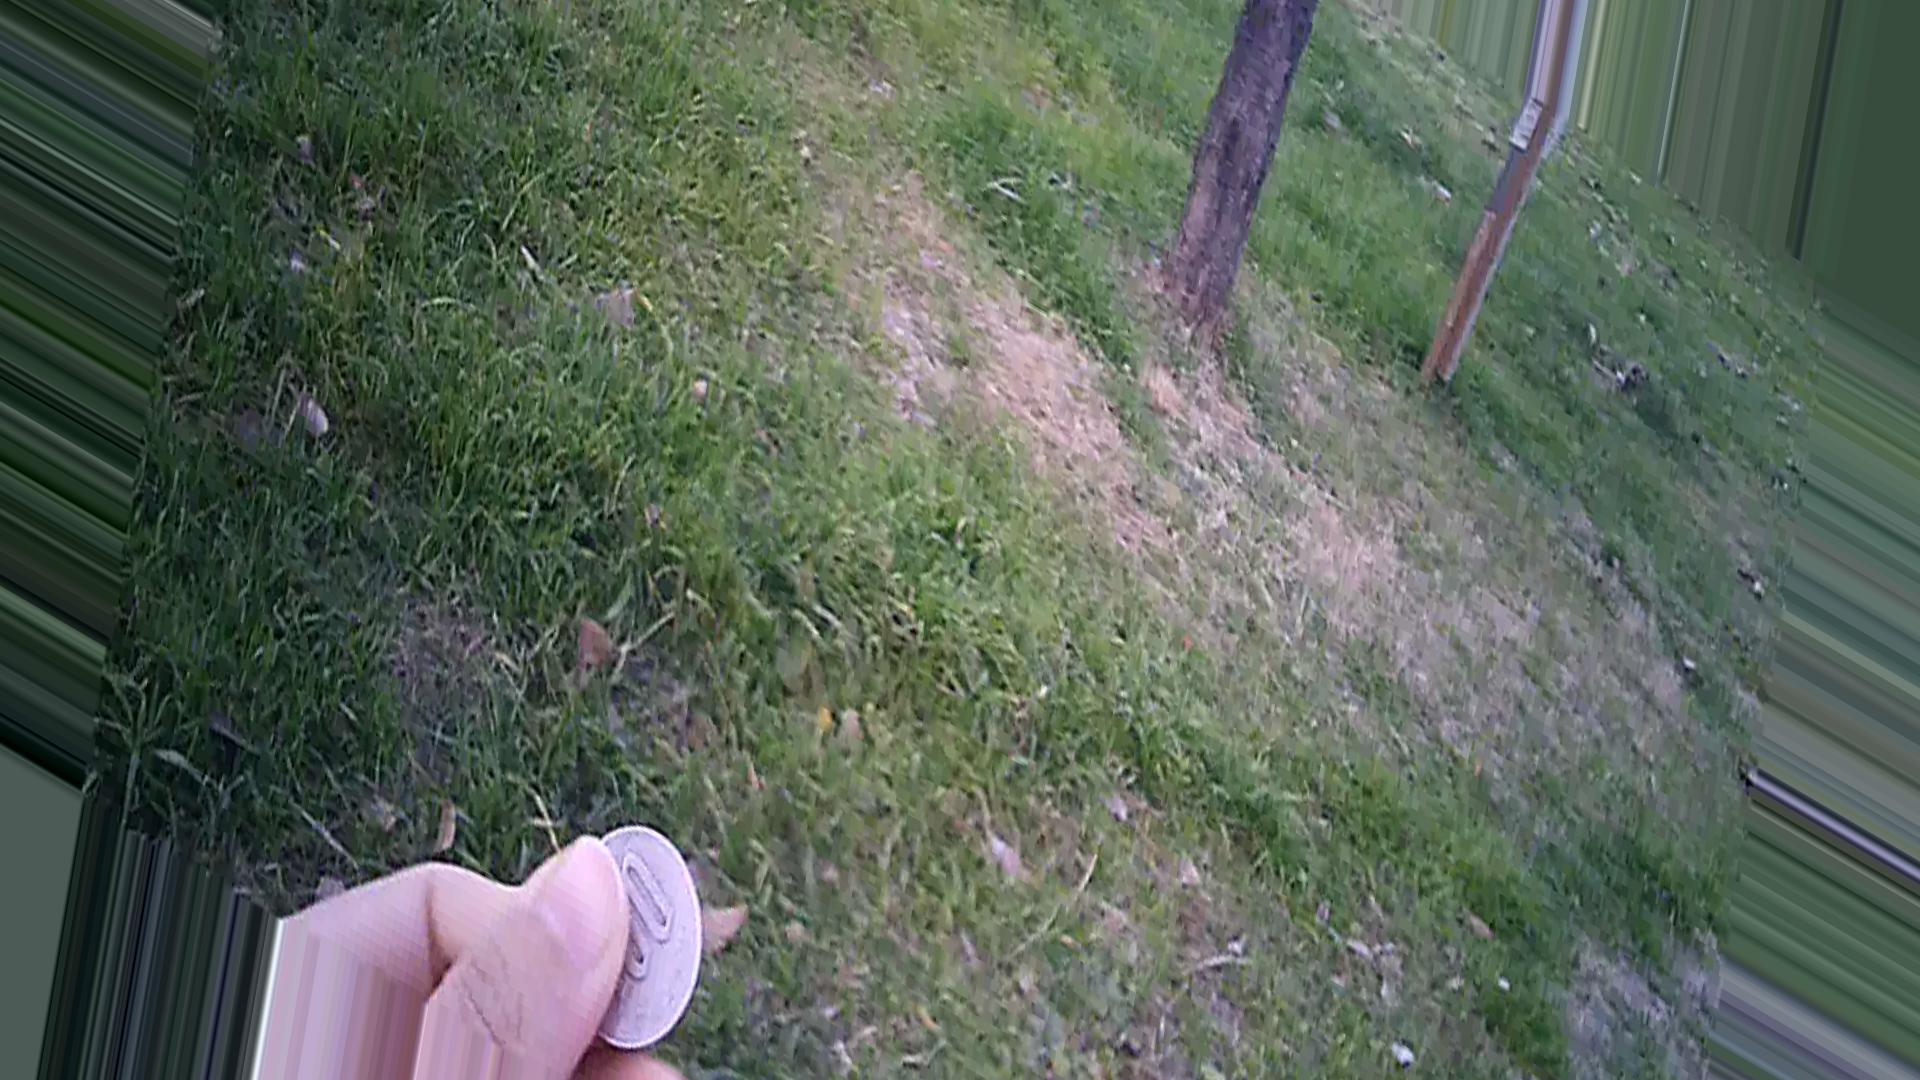100 Yen: (546, 815, 702, 1056)
